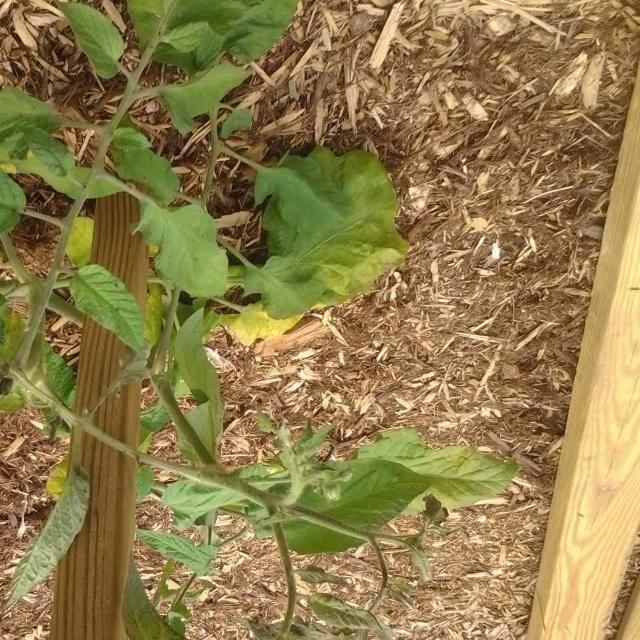Tomato leaf: (362, 429, 527, 511), (127, 184, 225, 319), (0, 171, 10, 376)
